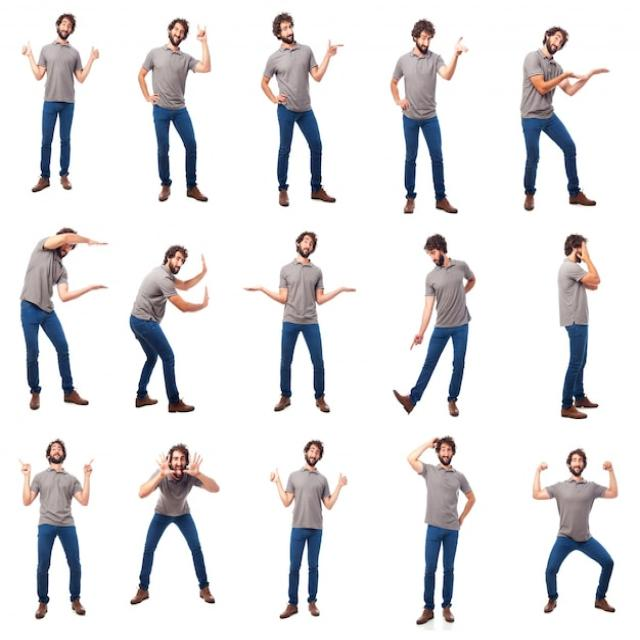Person: (244, 232, 356, 413), (521, 26, 610, 210), (19, 226, 108, 410), (261, 12, 344, 207), (390, 18, 468, 214), (392, 234, 475, 416), (130, 444, 220, 604), (22, 12, 100, 192), (17, 438, 94, 619), (534, 449, 617, 612), (271, 440, 347, 618), (138, 18, 211, 202), (130, 245, 208, 412), (407, 436, 475, 625), (557, 234, 600, 418)
